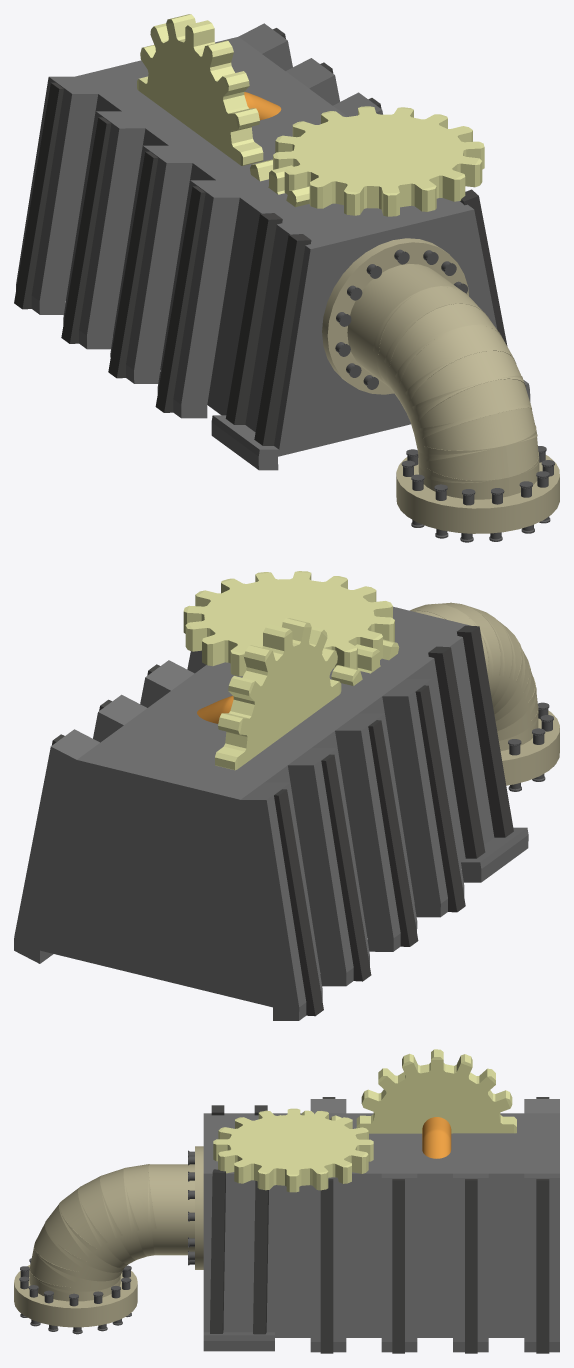
File: SteamMachine_pipe.fbx
3 views of the same model, one above another, from view 1: azimuth 30°, elevation 25°; view 2: azimuth 150°, elevation 25°; view 3: azimuth 270°, elevation 25° (orthographic). The views are drawn at different scales.
Visible parts, largest first — view 1: Куб, Цилиндр.049, Куб.012, Цилиндр.004, Цилиндр.001, Цилиндр.014, Цилиндр.019, Цилиндр.051, Цилиндр.015, Цилиндр.018, Цилиндр.017, Цилиндр; view 2: Куб, Куб.012, Цилиндр.004, Цилиндр.001, Цилиндр.049, Цилиндр.019, Цилиндр, Цилиндр.018, Цилиндр.015, Цилиндр.003; view 3: Куб, Куб.012, Цилиндр.049, Цилиндр.004, Цилиндр.001, Цилиндр.019, Цилиндр.051, Цилиндр.015, Цилиндр.014, Цилиндр.003, Цилиндр.018, Цилиндр.017.
Part boxes in pixels (box(x1,y1,x2,y2)): Куб: box(16, 23, 530, 470); Цилиндр.049: box(362, 274, 539, 499); Куб.012: box(14, 28, 507, 445); Цилиндр.004: box(273, 106, 484, 216); Цилиндр.001: box(137, 14, 263, 165); Цилиндр.014: box(322, 238, 468, 394); Цилиндр.019: box(396, 455, 559, 521); Цилиндр.051: box(347, 264, 450, 377); Цилиндр.015: box(396, 485, 559, 533); Цилиндр.018: box(401, 446, 554, 505); Цилиндр.017: box(335, 249, 467, 389); Цилиндр: box(250, 159, 309, 207); Куб: box(14, 606, 528, 1020); Куб.012: box(51, 625, 513, 1016); Цилиндр.004: box(183, 571, 394, 676); Цилиндр.001: box(215, 618, 341, 770); Цилиндр.049: box(410, 602, 538, 750); Цилиндр.019: box(500, 710, 559, 773); Цилиндр: box(331, 639, 399, 685); Цилиндр.018: box(508, 702, 553, 755); Цилиндр.015: box(504, 741, 559, 785); Цилиндр.003: box(197, 696, 233, 723); Куб: box(203, 1099, 559, 1352); Куб.012: box(210, 1097, 549, 1353); Цилиндр.049: box(29, 1164, 173, 1301); Цилиндр.004: box(213, 1108, 373, 1192); Цилиндр.001: box(356, 1049, 516, 1133); Цилиндр.019: box(14, 1265, 137, 1317); Цилиндр.051: box(171, 1164, 194, 1255); Цилиндр.015: box(14, 1292, 137, 1327); Цилиндр.014: box(195, 1146, 203, 1269); Цилиндр.003: box(422, 1117, 451, 1158); Цилиндр.018: box(19, 1258, 131, 1306); Цилиндр.017: box(188, 1150, 194, 1265).
Size of the model in its own units: 406 by 415 by 848.
